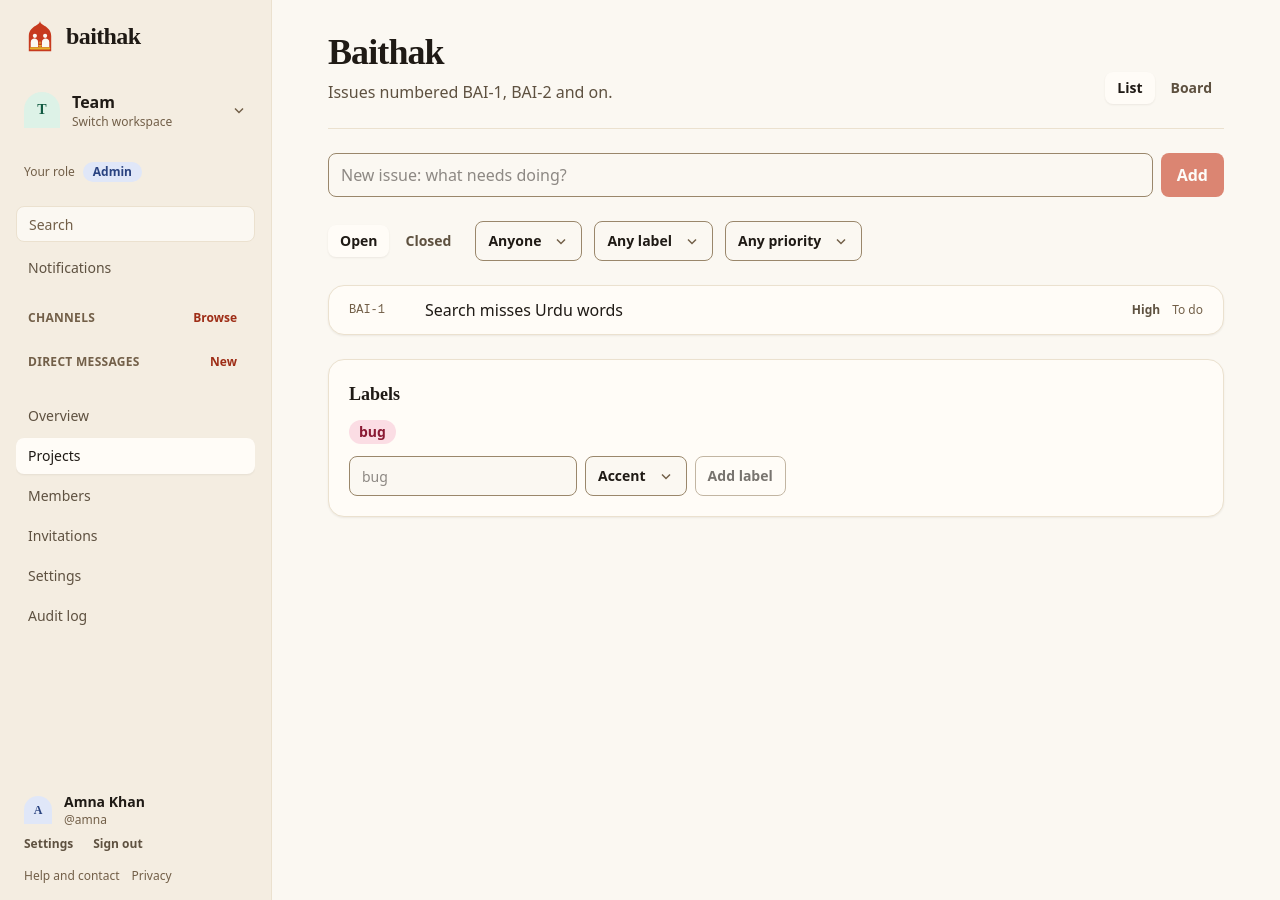
Test: issues › a project lists its open issues and adds one from the box
The width and height of the screenshot is (1280, 900).
Expected: the text "BAI-1" is shown, [349,303,385,317]
Expected: the text "High" is shown, [1132,302,1160,318]
Type "Add dark mode toggle" into the field named "New issue title" at (740, 175), box [328,153,1153,197]
Then press Enter
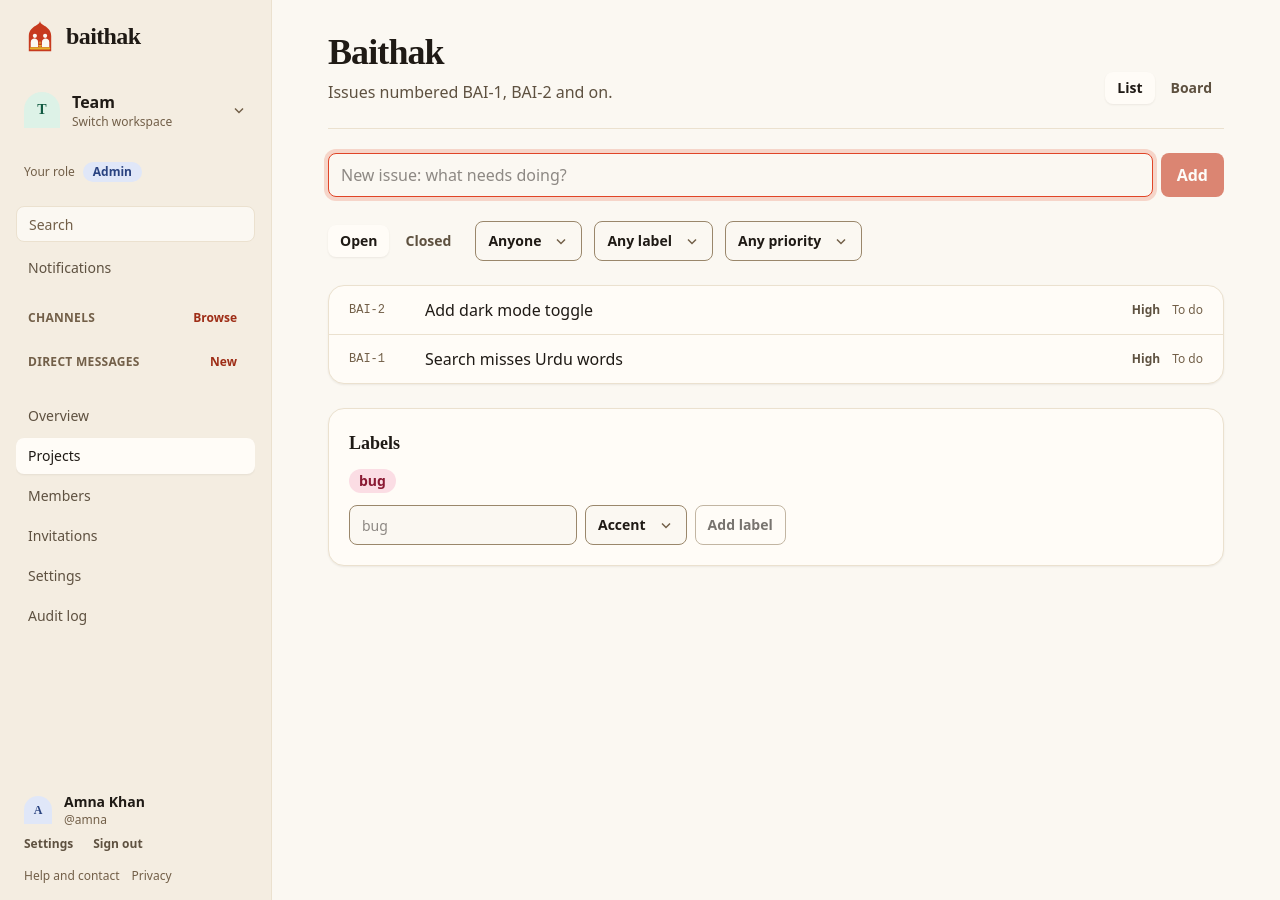
Expected: the text "BAI-2" is shown, [349,303,385,317]
